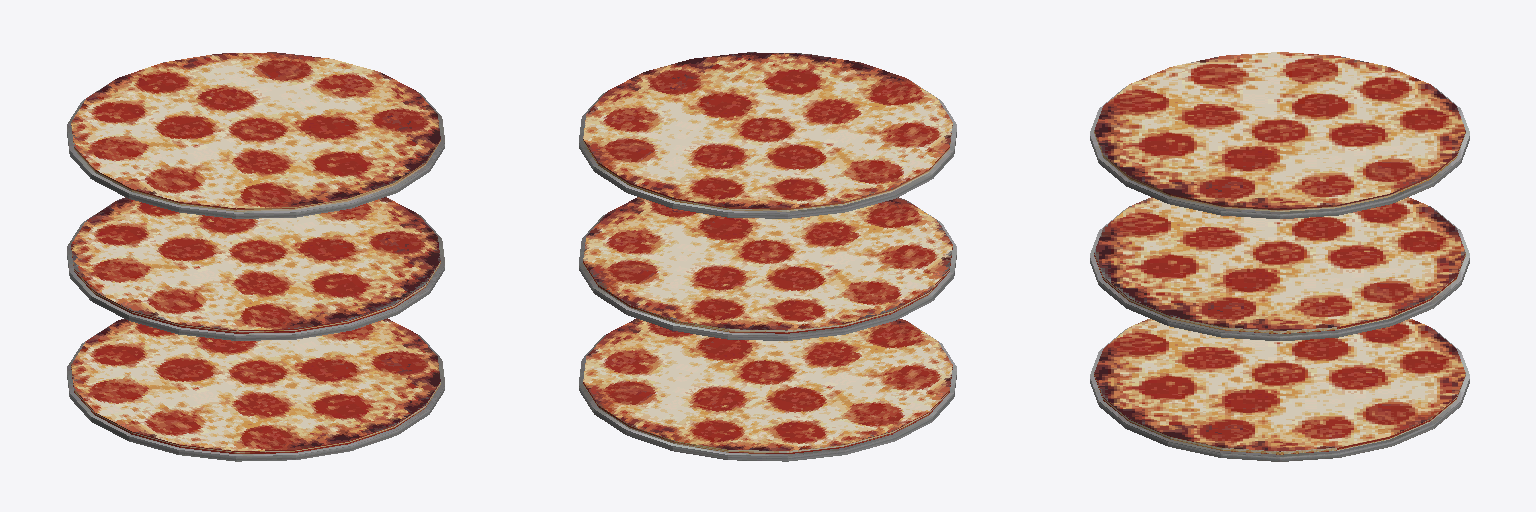
The picture shows the model from 3 angles: view 1: azimuth 30°, elevation 25°; view 2: azimuth 150°, elevation 25°; view 3: azimuth 270°, elevation 25°; orthographic projection.
Visible parts, largest first — view 1: group10 pasted__pasted__pasted__pCylinder1 pasted__pasted__group, group10 pasted__pasted__pCylinder1 pasted__group8, pasted__pCylinder1 group10, pasted__pasted__pCylinder1 pasted__group8 group9, pasted__pCylinder1 group8, pCylinder1; view 2: group10 pasted__pasted__pasted__pCylinder1 pasted__pasted__group, group10 pasted__pasted__pCylinder1 pasted__group8, pasted__pCylinder1 group10, pasted__pasted__pCylinder1 pasted__group8 group9, pCylinder1, pasted__pCylinder1 group8; view 3: group10 pasted__pasted__pasted__pCylinder1 pasted__pasted__group, group10 pasted__pasted__pCylinder1 pasted__group8, pasted__pCylinder1 group10, pCylinder1, pasted__pCylinder1 group8, pasted__pasted__pCylinder1 pasted__group8 group9.
Part boxes in pixels (bbox=[...]): group10 pasted__pasted__pasted__pCylinder1 pasted__pasted__group: bbox=[71, 52, 440, 211]; group10 pasted__pasted__pCylinder1 pasted__group8: bbox=[71, 197, 440, 333]; pasted__pCylinder1 group10: bbox=[71, 318, 440, 453]; pasted__pasted__pCylinder1 pasted__group8 group9: bbox=[67, 80, 444, 218]; pasted__pCylinder1 group8: bbox=[67, 202, 444, 340]; pCylinder1: bbox=[67, 322, 444, 461]; group10 pasted__pasted__pasted__pCylinder1 pasted__pasted__group: bbox=[583, 52, 952, 211]; group10 pasted__pasted__pCylinder1 pasted__group8: bbox=[583, 197, 952, 333]; pasted__pCylinder1 group10: bbox=[583, 318, 952, 453]; pasted__pasted__pCylinder1 pasted__group8 group9: bbox=[579, 80, 956, 218]; pCylinder1: bbox=[579, 322, 956, 461]; pasted__pCylinder1 group8: bbox=[579, 202, 956, 340]; group10 pasted__pasted__pasted__pCylinder1 pasted__pasted__group: bbox=[1094, 52, 1465, 211]; group10 pasted__pasted__pCylinder1 pasted__group8: bbox=[1094, 197, 1465, 333]; pasted__pCylinder1 group10: bbox=[1094, 319, 1465, 454]; pCylinder1: bbox=[1090, 328, 1469, 461]; pasted__pCylinder1 group8: bbox=[1090, 208, 1469, 340]; pasted__pasted__pCylinder1 pasted__group8 group9: bbox=[1090, 86, 1469, 218].
Bounding box in the file's own units: 0.7165 × 0.5213 × 0.7165.
2 materials, 2 textured.